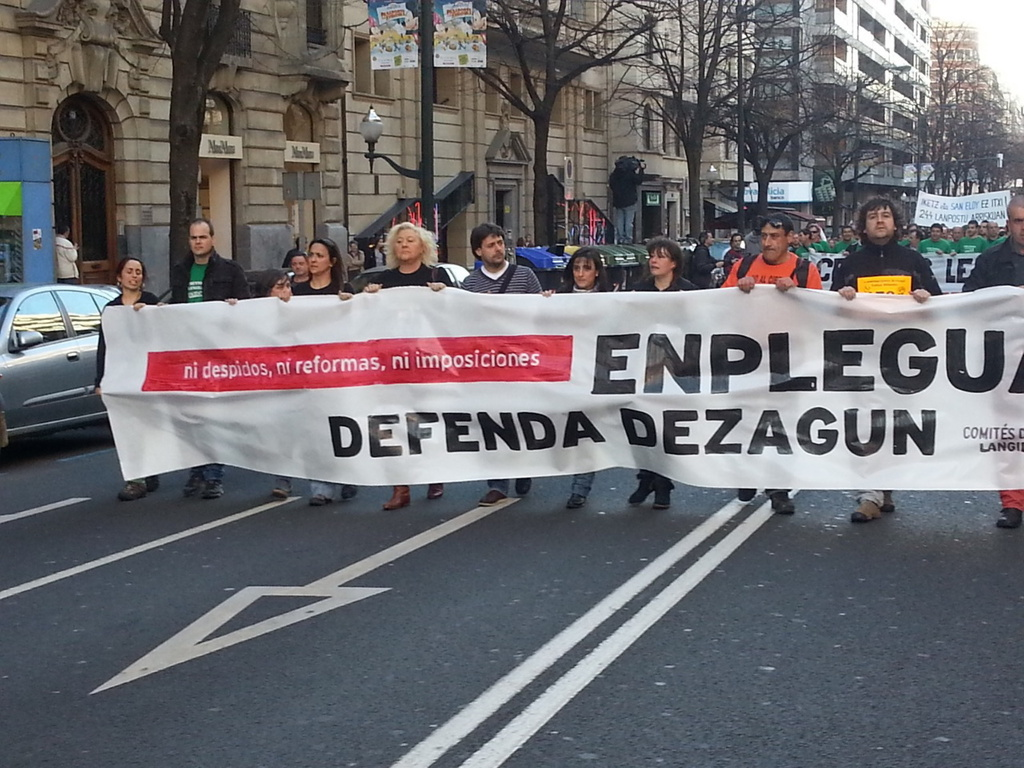Car: (0, 285, 124, 461)
